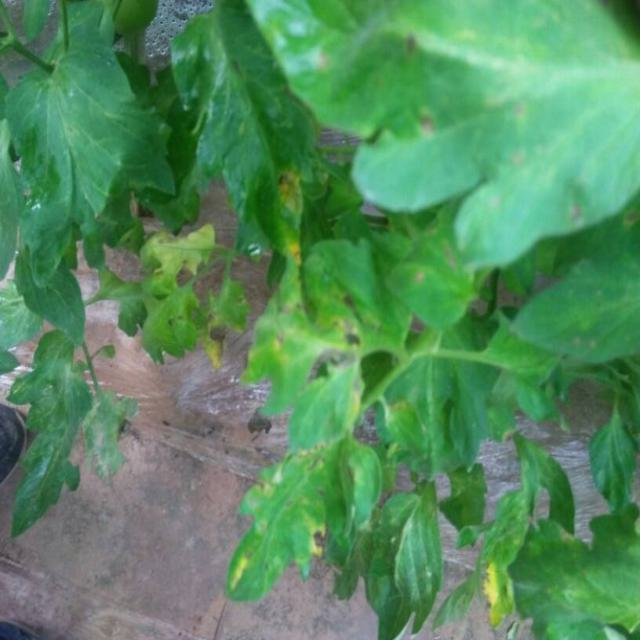Early_blight: (145, 225, 217, 280), (482, 558, 506, 627), (205, 309, 229, 368), (277, 164, 307, 210), (286, 236, 305, 266), (311, 525, 327, 559)
